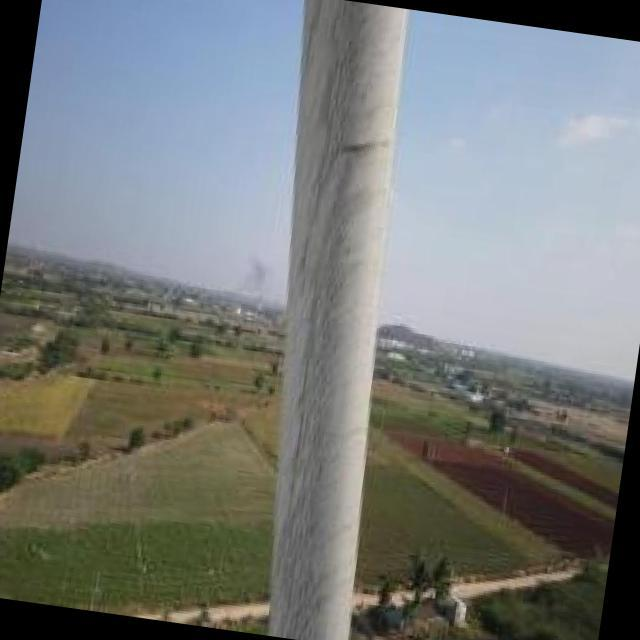Dirt: (264, 5, 413, 640)
